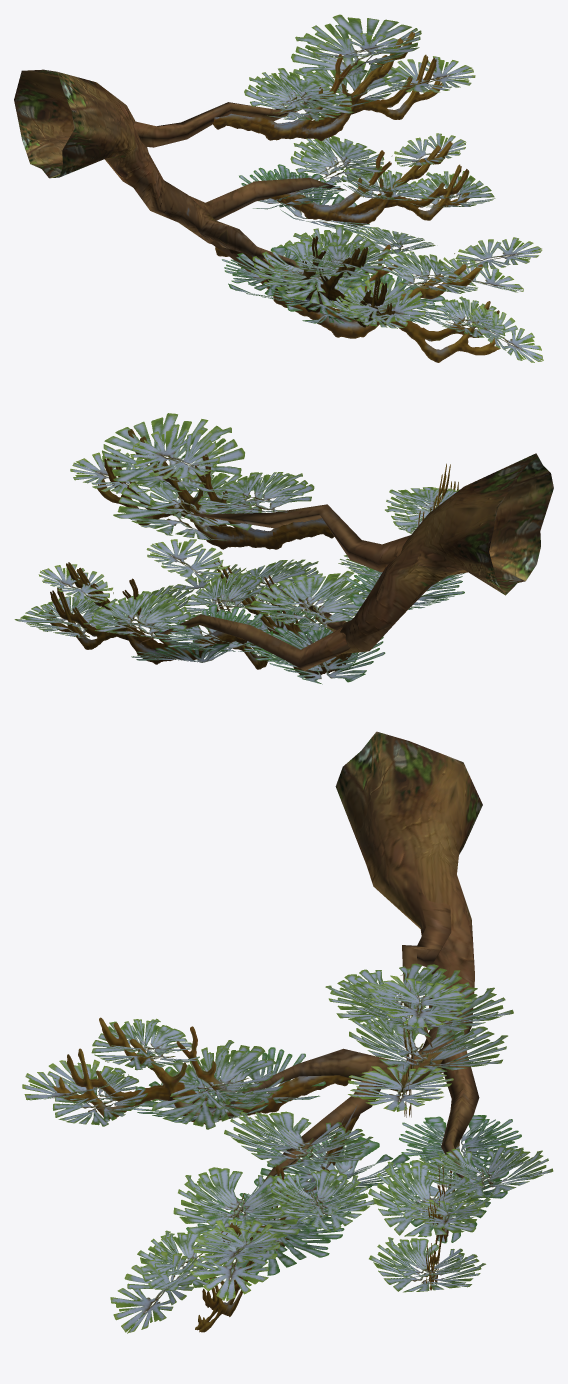
3 renders of one model, top to bottom at view 1: azimuth 30°, elevation 25°; view 2: azimuth 150°, elevation 25°; view 3: azimuth 270°, elevation 25°, orthographic. The views are drawn at different scales.
Parts seen in each view (by area): view 1: MS0002_03_04_2_01, MS0002_03_04_1_01; view 2: MS0002_03_04_2_01, MS0002_03_04_1_01; view 3: MS0002_03_04_2_01, MS0002_03_04_1_01.
Part boxes in pixels (box(x1,y1,x2,y2)): MS0002_03_04_2_01: box(212, 14, 543, 362); MS0002_03_04_1_01: box(14, 69, 387, 286); MS0002_03_04_2_01: box(14, 413, 464, 684); MS0002_03_04_1_01: box(140, 453, 553, 670); MS0002_03_04_2_01: box(22, 963, 553, 1333); MS0002_03_04_1_01: box(211, 731, 482, 1203).
Bounding box in the file's own units: 10.01 × 7.27 × 8.49.
